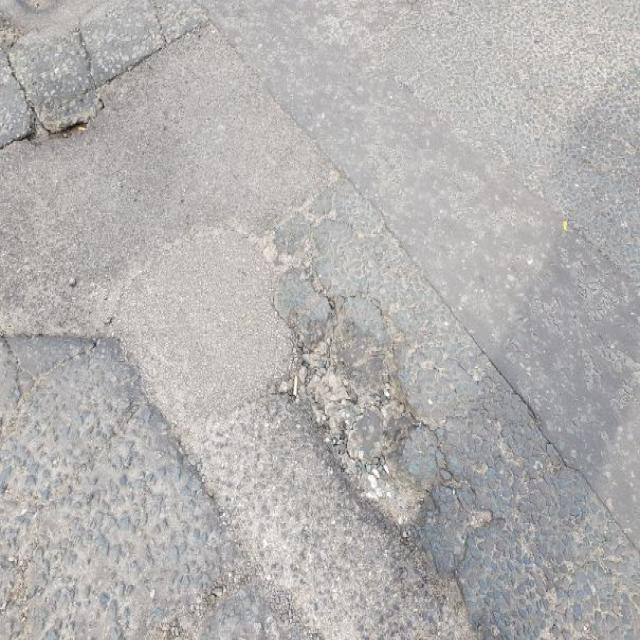pothole: (262, 259, 495, 564)
